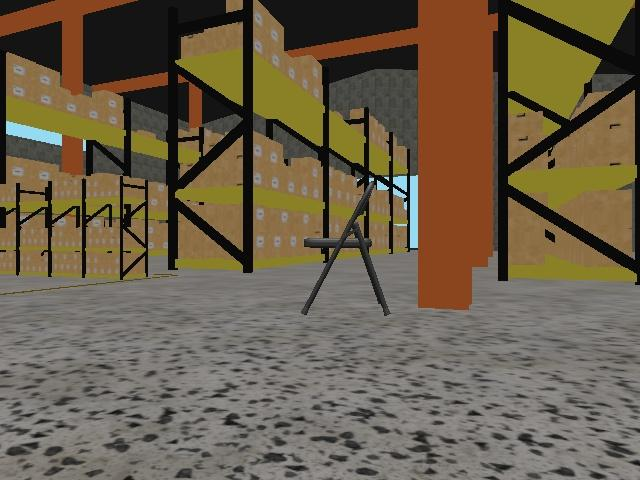chair: (300, 178, 393, 320)
